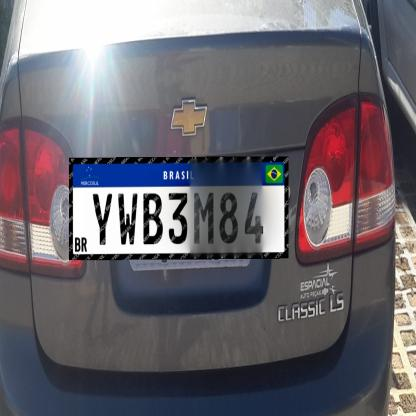PlacaM: (69, 157, 288, 260)
